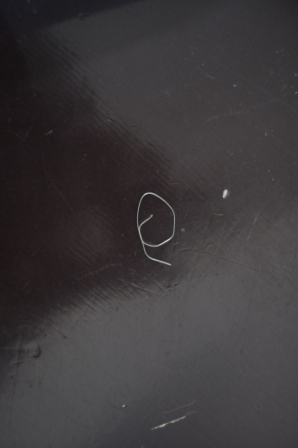METAL WIRE: (135, 191, 178, 269)
